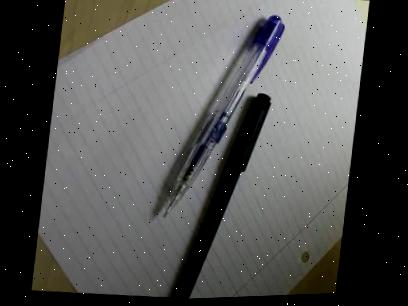pen-pencil: (154, 17, 275, 217), (186, 94, 269, 290)
